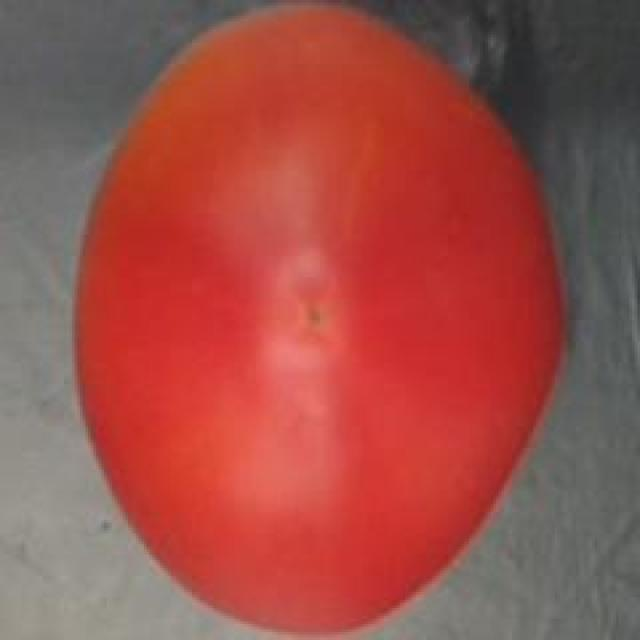ripe tomato: (64, 0, 584, 640)
